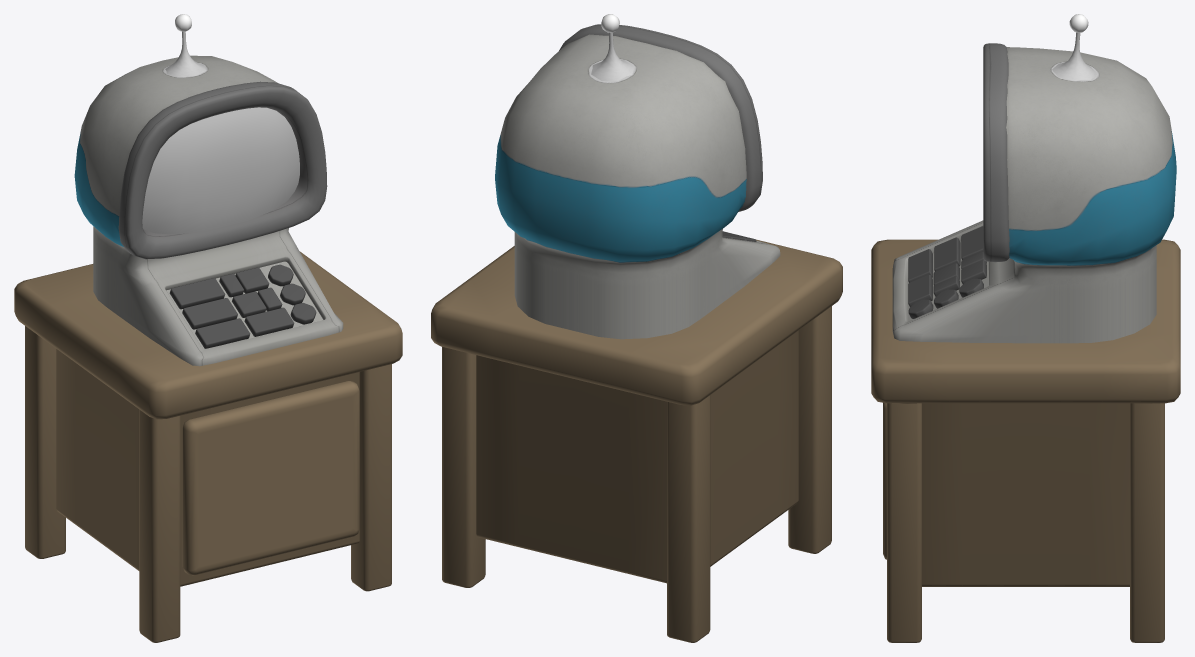
The model's file is Upgrade_PC.fbx.
The picture shows the model from 3 angles, left to right: view 1: azimuth 30°, elevation 25°; view 2: azimuth 150°, elevation 25°; view 3: azimuth 270°, elevation 25°; orthographic projection. The views are drawn at different scales.
Visible parts, largest first — view 1: Upgrade_PC; view 2: Upgrade_PC; view 3: Upgrade_PC.
Boxes of the visible parts, box(x1,y1,x2,y2) form: Upgrade_PC: box(14, 14, 402, 642); Upgrade_PC: box(431, 14, 842, 642); Upgrade_PC: box(871, 14, 1180, 642).
Bounding box in the file's own units: 60.14 × 122 × 60.14.
